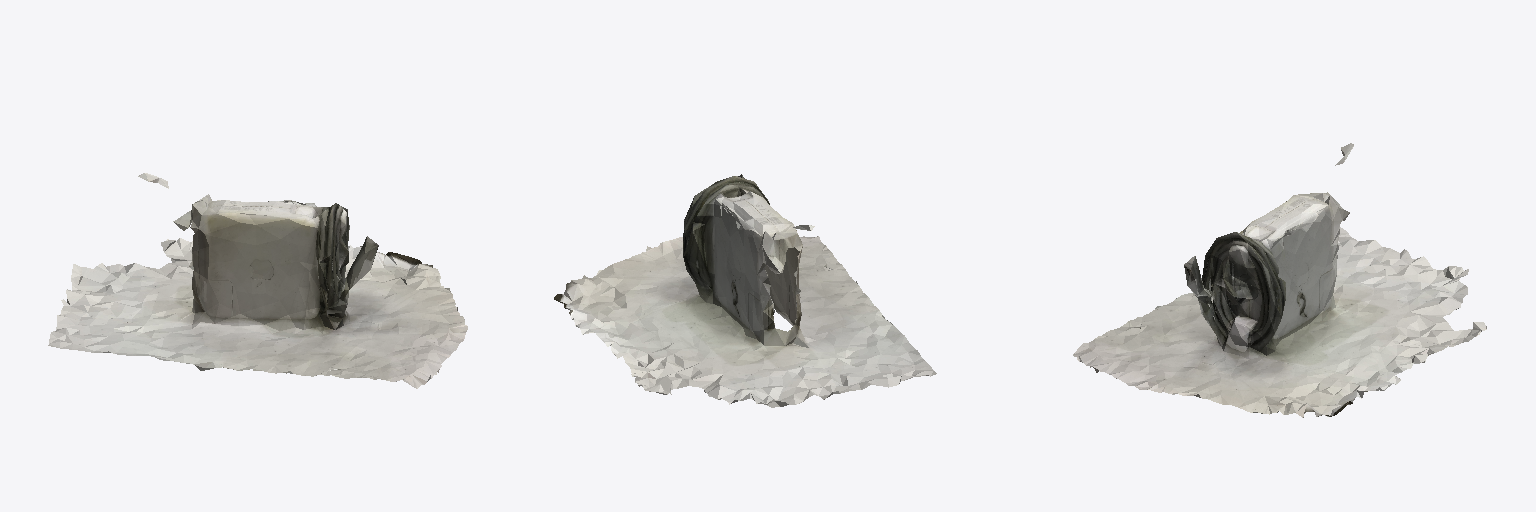
3 renders of one model, left to right at view 1: azimuth 30°, elevation 25°; view 2: azimuth 150°, elevation 25°; view 3: azimuth 270°, elevation 25°, orthographic.
Visible parts, largest first — view 1: laptopcharger.002; view 2: laptopcharger.002; view 3: laptopcharger.002.
Part boxes in pixels (x1,y1,x2,y2): laptopcharger.002: (48, 173, 467, 388); laptopcharger.002: (554, 174, 936, 407); laptopcharger.002: (1073, 143, 1486, 417).
Bounding box in the file's own units: 91.27 × 35.02 × 86.65.
1 materials, 1 textured.